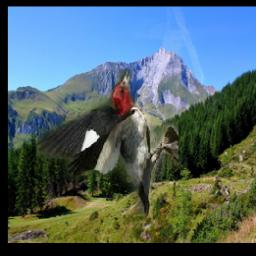Woodpecker: (37, 70, 179, 215)
